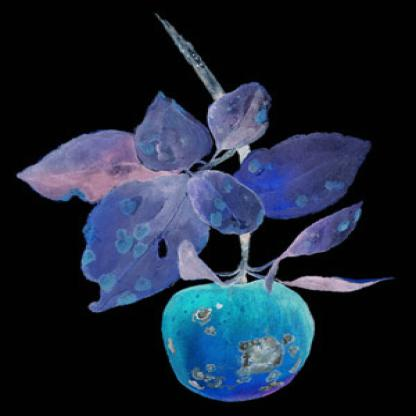Apple Scab Leaf: (80, 166, 209, 328), (232, 118, 385, 224), (122, 86, 218, 183), (183, 162, 268, 240), (277, 193, 370, 263), (202, 73, 268, 165)
